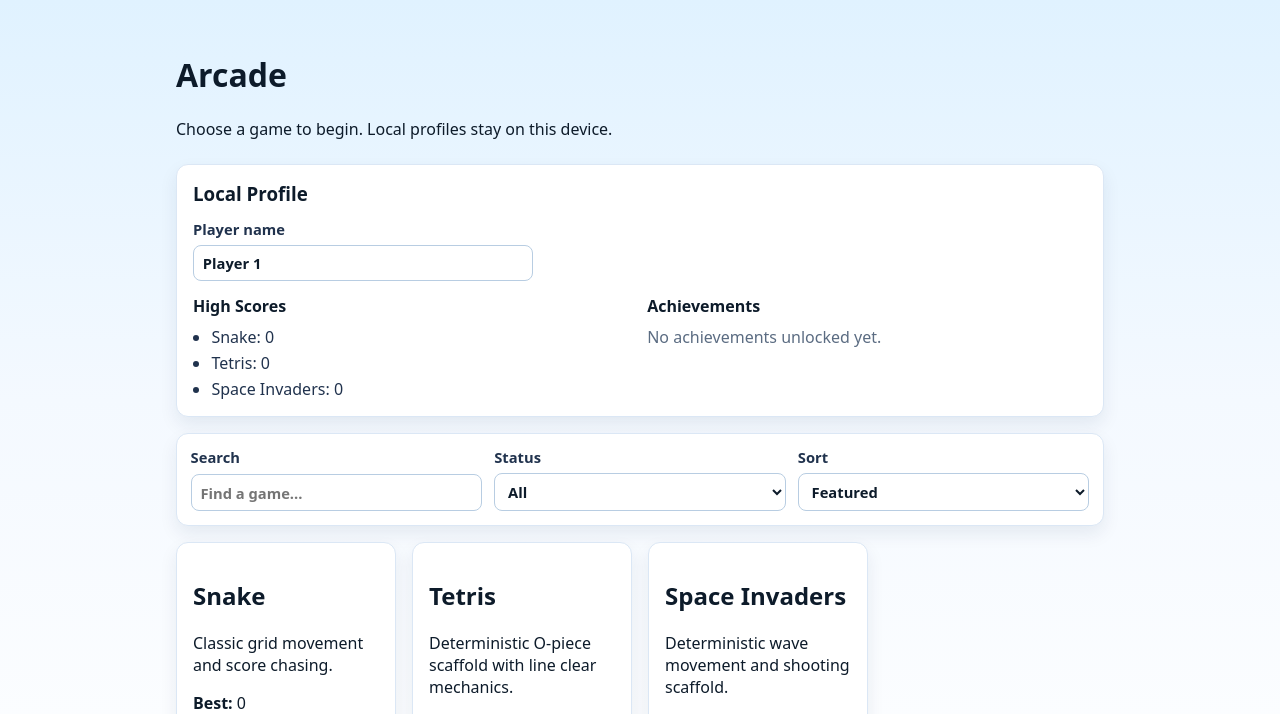
Test: App › sorts games by name descending
This screenshot has width=1280, height=714.
Select "Name Z-A" in the dropdown labelled "Sort" at [944, 492], box [798,473,1089,511]
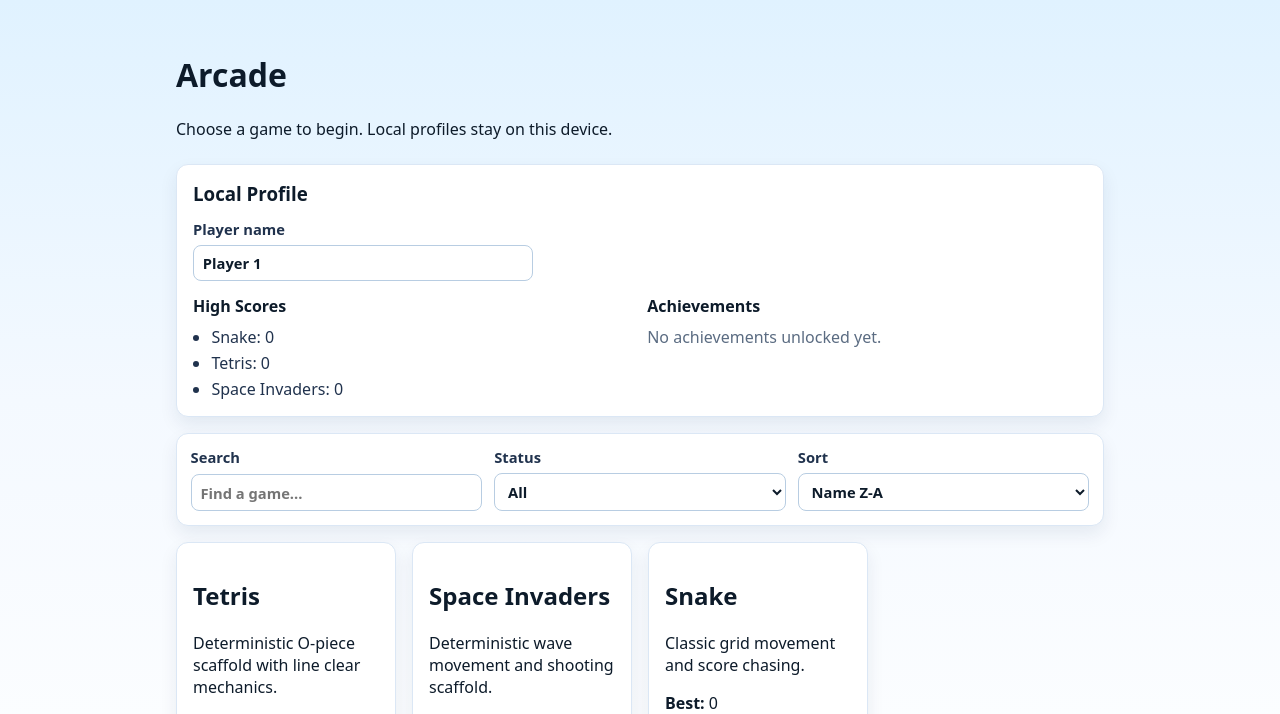
Check: the headings read "Tetris", "Space Invaders", "Snake", in this order, box [193,579,260,612]; [429,579,615,612]; [665,579,738,612]
